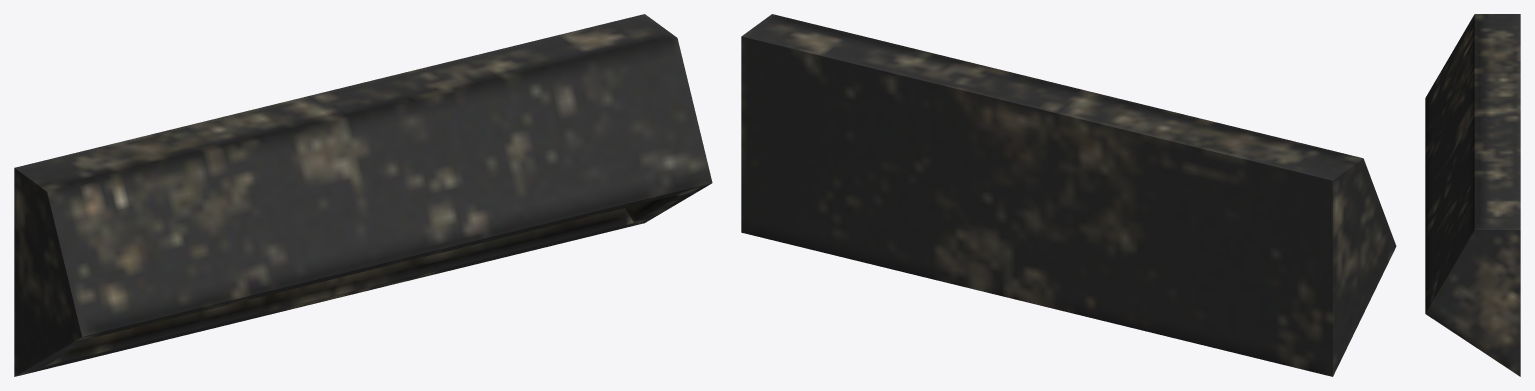
File: DoorSensor.FBX
3 renders of one model, left to right at view 1: azimuth 30°, elevation 25°; view 2: azimuth 150°, elevation 25°; view 3: azimuth 270°, elevation 25°, orthographic. The views are drawn at different scales.
Parts seen in each view (by area): view 1: DoorSensor; view 2: DoorSensor; view 3: DoorSensor.
Boxes of the visible parts, box(x1,y1,x2,y2) form: DoorSensor: box(14, 14, 712, 376); DoorSensor: box(741, 14, 1396, 376); DoorSensor: box(1425, 14, 1520, 376).
Bounding box in the file's own units: 35.44 × 11.23 × 6.59.
